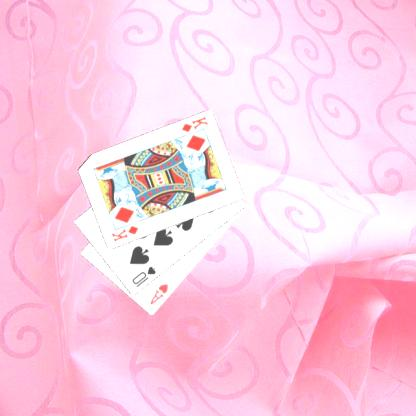10S: (129, 263, 157, 289)
AH: (146, 280, 170, 306)
KD: (108, 223, 140, 244), (178, 114, 209, 134)
